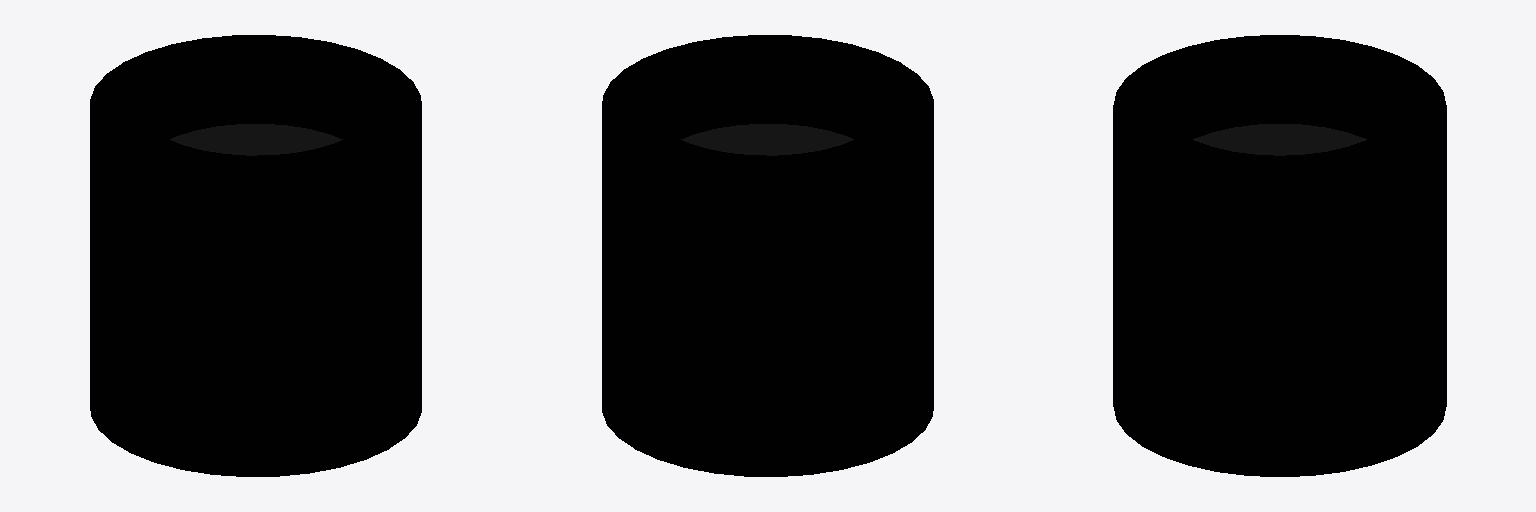
The model's file is speaker.obj.
3 renders of one model, left to right at view 1: azimuth 30°, elevation 25°; view 2: azimuth 150°, elevation 25°; view 3: azimuth 270°, elevation 25°, orthographic.
Visible parts, largest first — view 1: Cylinder_Cylinder.000; view 2: Cylinder_Cylinder.000; view 3: Cylinder_Cylinder.000.
Boxes of the visible parts, x1=… form: Cylinder_Cylinder.000: x1=90, y1=35, x2=421, y2=476; Cylinder_Cylinder.000: x1=602, y1=35, x2=933, y2=476; Cylinder_Cylinder.000: x1=1113, y1=35, x2=1446, y2=476.
Size of the model in its own units: 1 by 1 by 1.